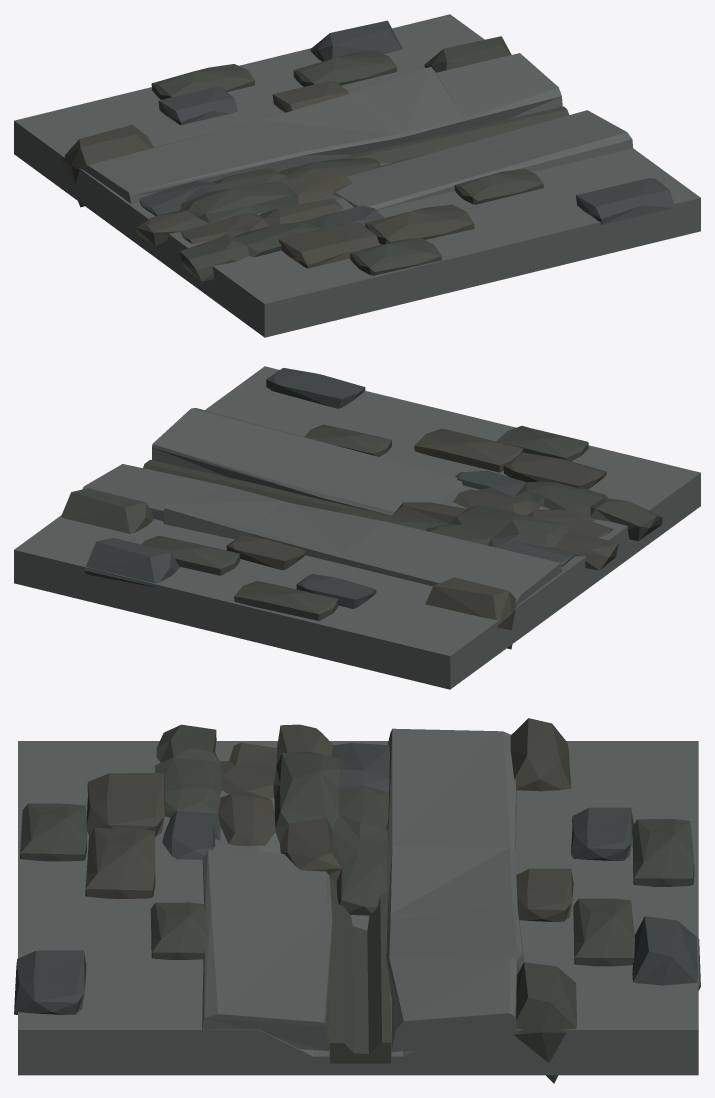
File: MCastle_Cobbles_03.FBX
3 views of the same model, one above another, from view 1: azimuth 30°, elevation 25°; view 2: azimuth 150°, elevation 25°; view 3: azimuth 270°, elevation 25° (orthographic). The views are drawn at different scales.
Visible parts, largest first — view 1: MCastle_Cobbles_03_Base_LOD0; view 2: MCastle_Cobbles_03_Base_LOD0; view 3: MCastle_Cobbles_03_Base_LOD0.
Part boxes in pixels (x1,y1,x2,y2): MCastle_Cobbles_03_Base_LOD0: (14, 14, 700, 337); MCastle_Cobbles_03_Base_LOD0: (14, 366, 700, 689); MCastle_Cobbles_03_Base_LOD0: (14, 718, 700, 1083).
Size of what is drawn, in the model's own units: 4.18 by 0.5177 by 4.
